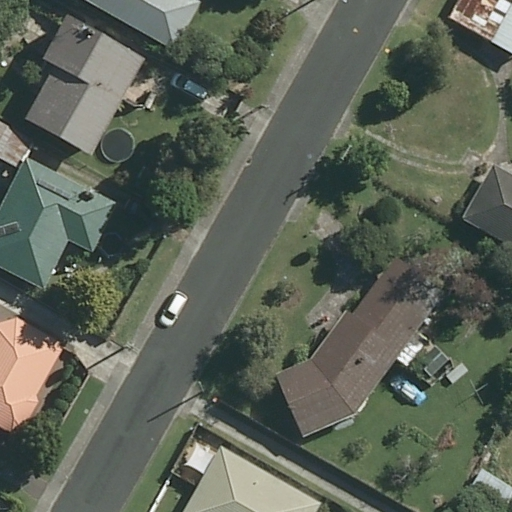DT: (189, 378, 207, 401), (124, 337, 138, 355)
